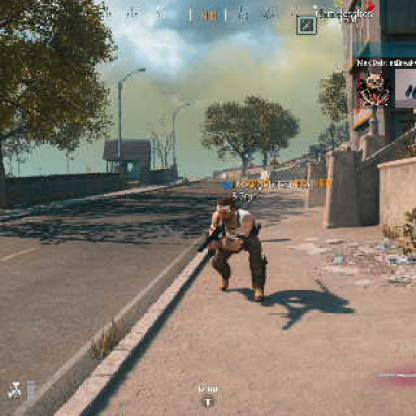enemy: (200, 192, 265, 298), (214, 198, 236, 222)
